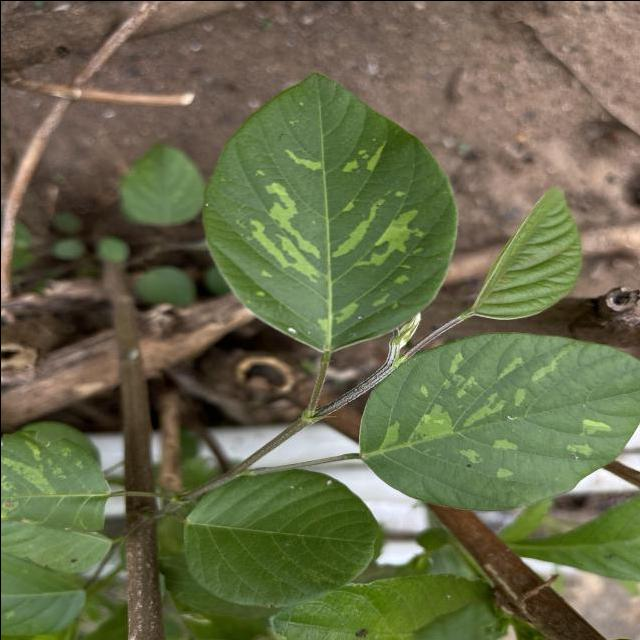Desmodium gangeticum: (197, 68, 461, 357), (355, 328, 640, 514)
